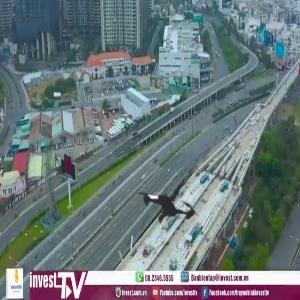drone: (113, 147, 223, 257)
